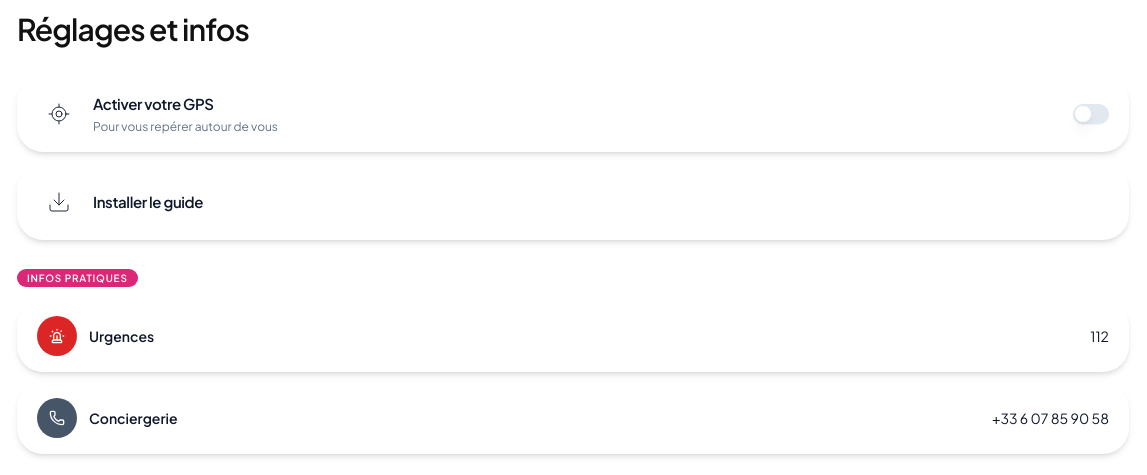
Test: AC-01-07: keeps the switch off after permission denial
What coordinates should you click on to do the following:
click the switch named "Activer votre GPS"
I would click on:
 (1091, 114)
Its box is [1073,104,1109,124].
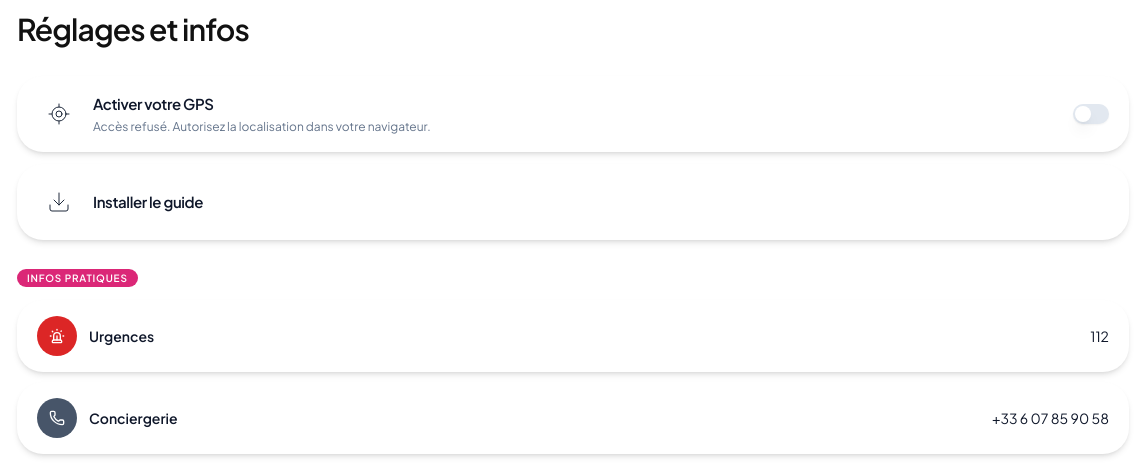
Now the text "Accès refusé" is shown, box [93,119,431,134]
